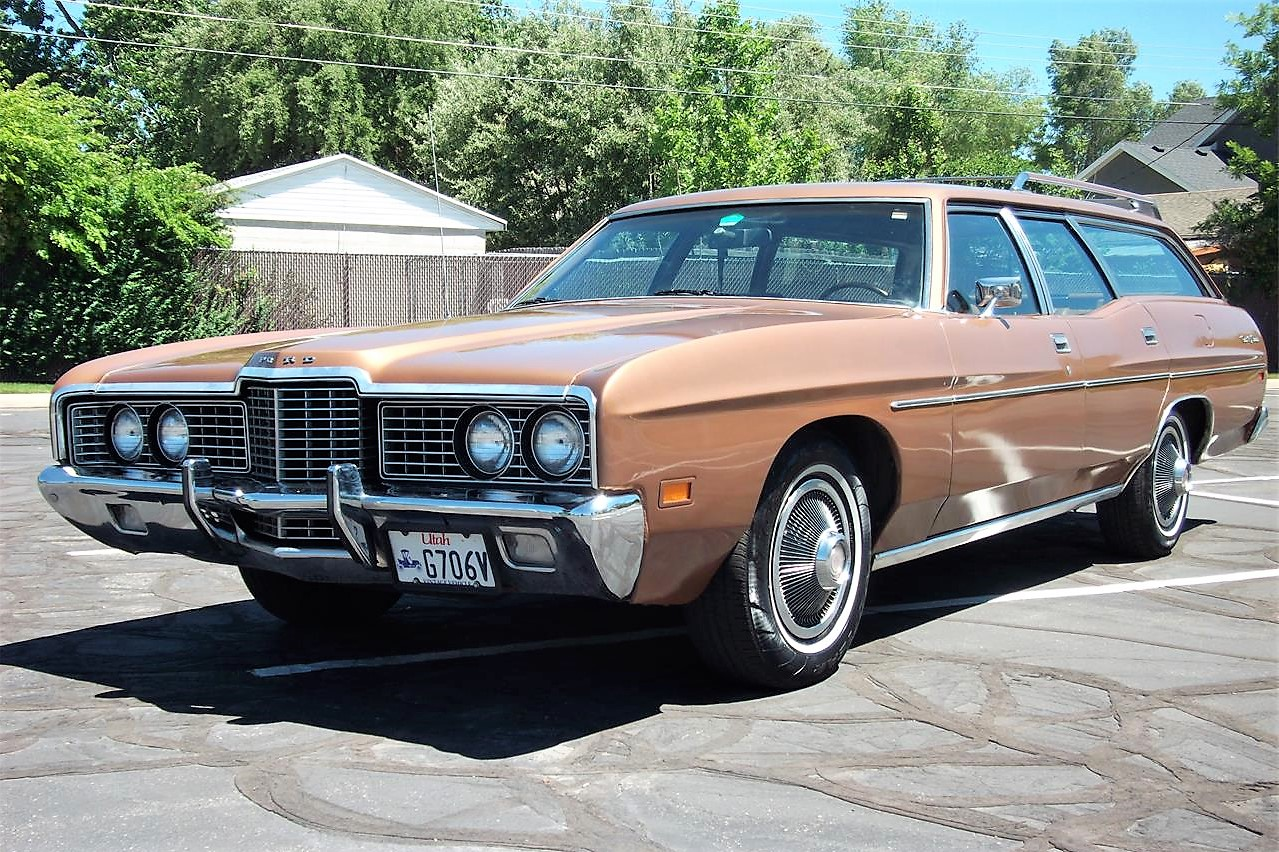car: (35, 171, 1268, 691)
